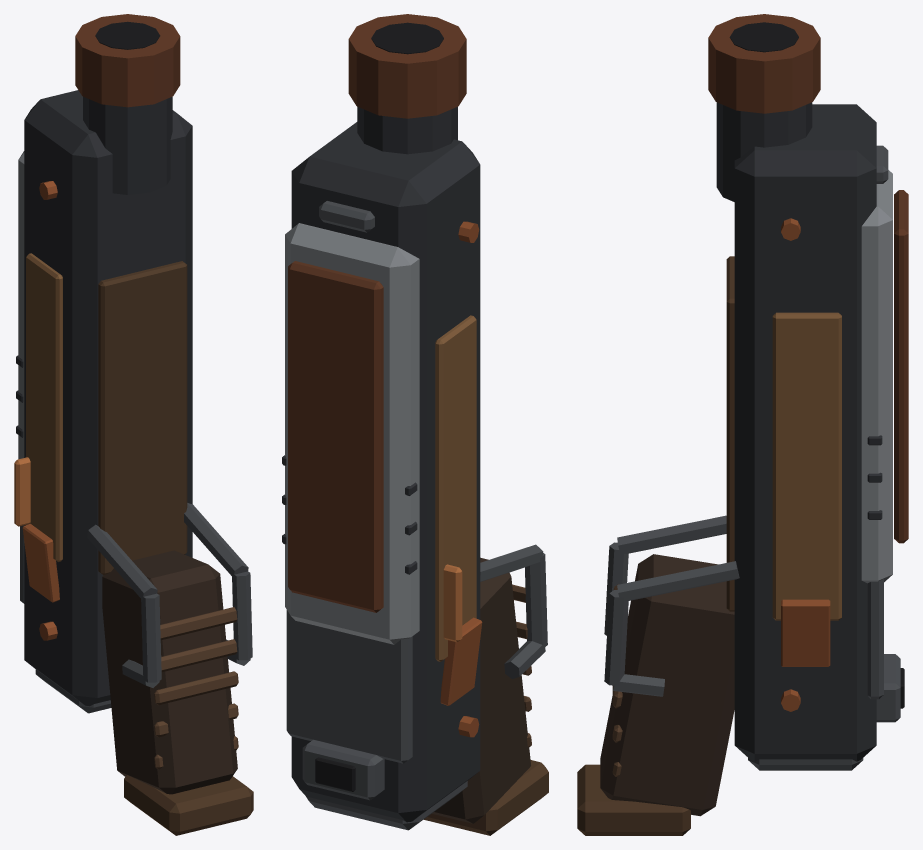
File: weapon_pistol.fbx
The picture shows the model from 3 angles, left to right: view 1: azimuth 30°, elevation 25°; view 2: azimuth 150°, elevation 25°; view 3: azimuth 270°, elevation 25°; orthographic projection. The views are drawn at different scales.
Parts seen in each view (by area): view 1: weapon_pistol; view 2: weapon_pistol; view 3: weapon_pistol.
Boxes of the visible parts, left/top/right/bottom form: weapon_pistol: left=14, top=14, right=253, bottom=835; weapon_pistol: left=282, top=14, right=548, bottom=835; weapon_pistol: left=577, top=14, right=908, bottom=835.
Bounding box in the file's own units: 0.1161 × 0.522 × 0.201.
